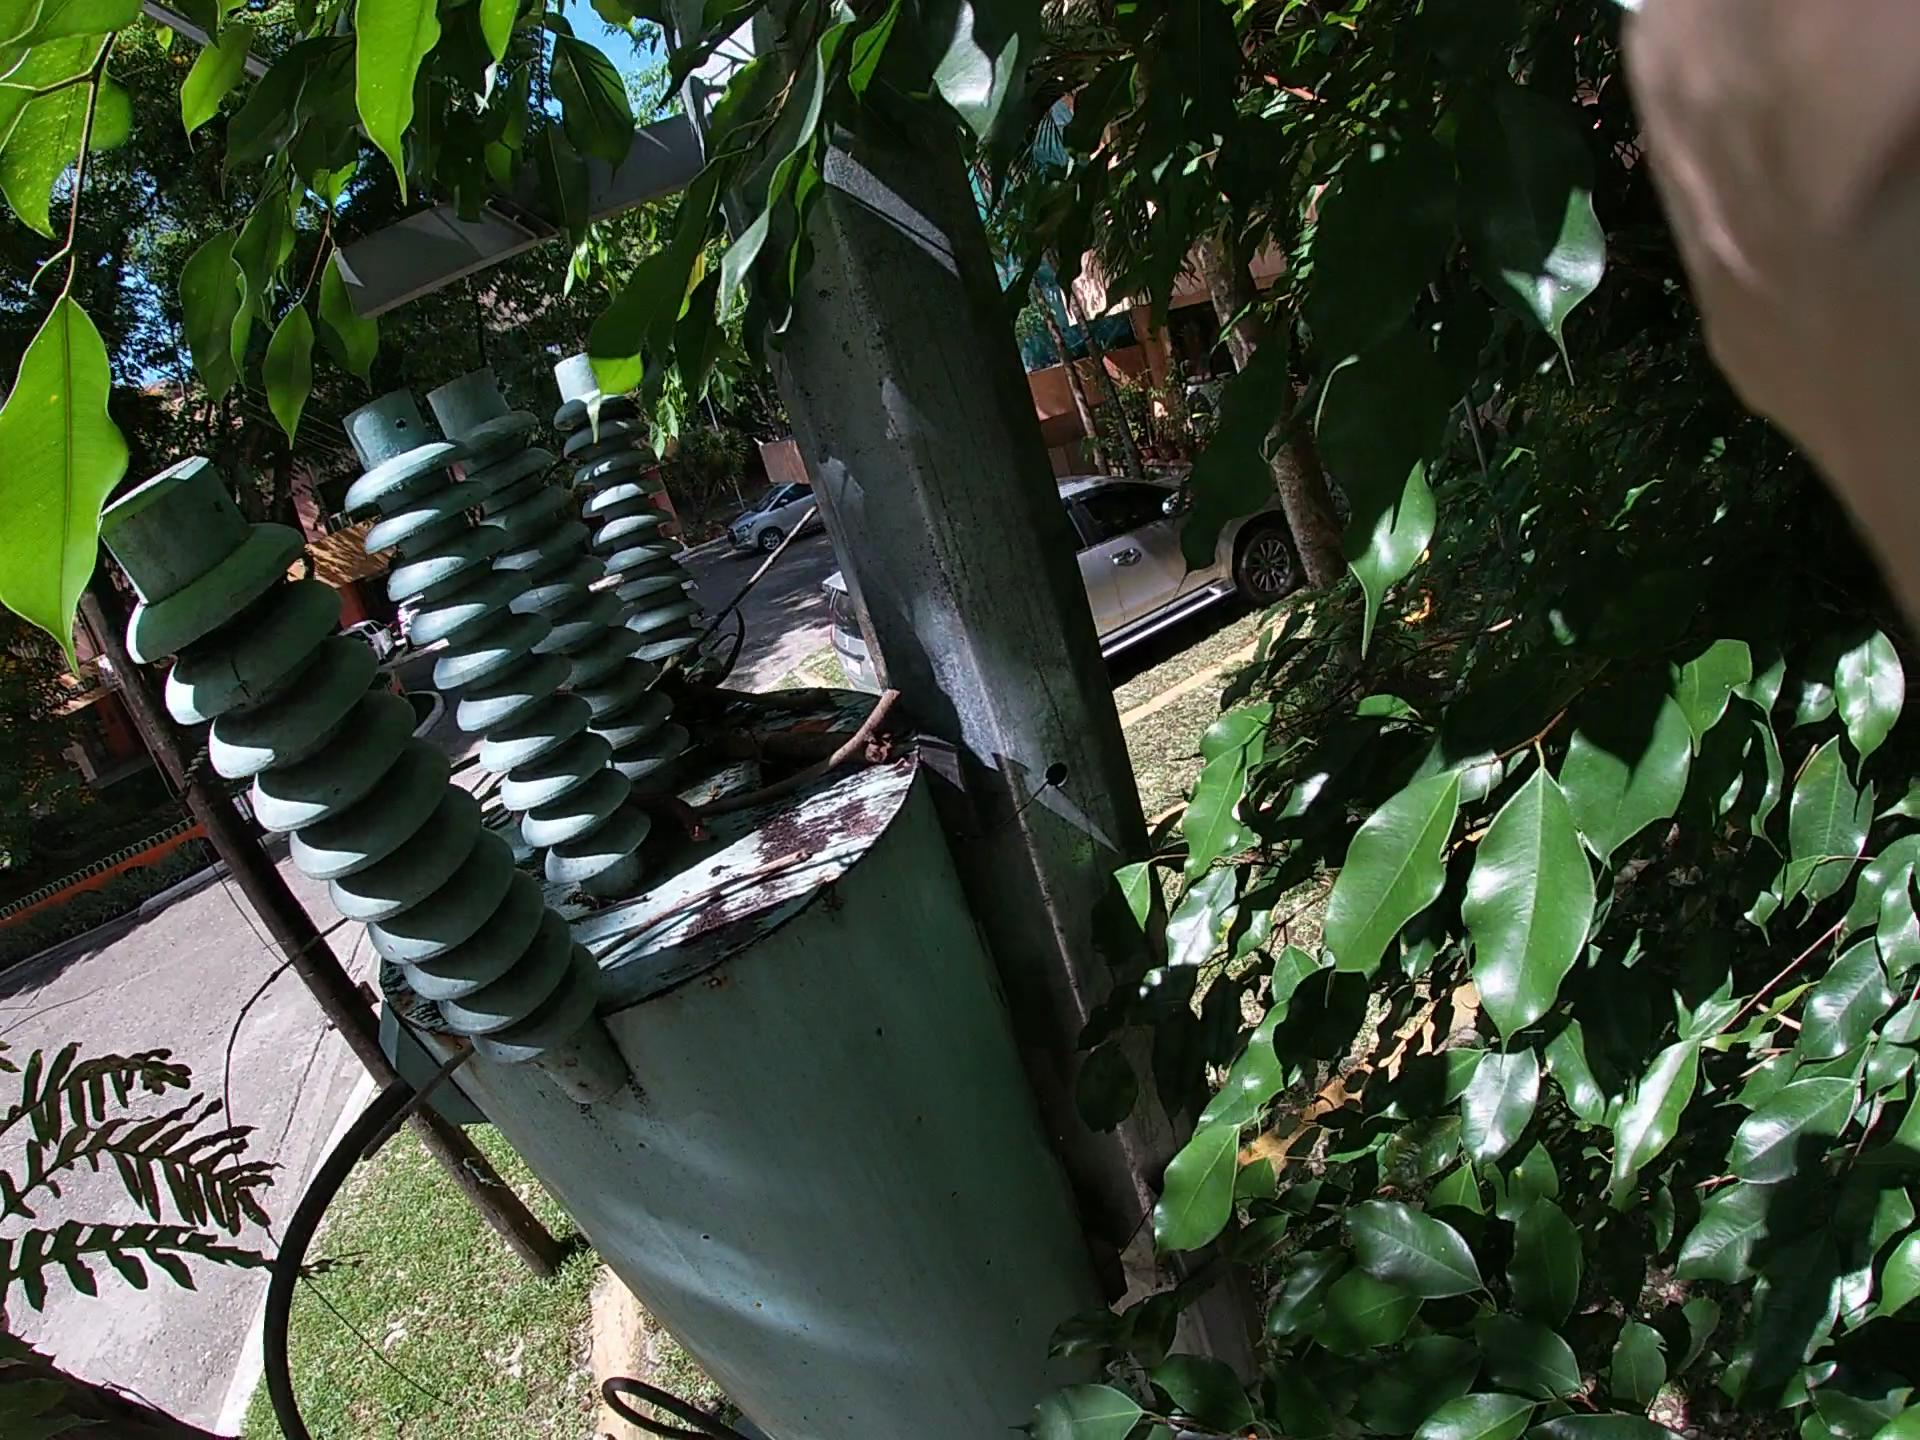branch with leaves: (618, 607, 934, 805)
leaf: (732, 663, 883, 784)
mahogany fruit: (522, 793, 782, 909)
tree branch: (321, 542, 854, 962), (398, 836, 794, 1141), (711, 644, 928, 864)
